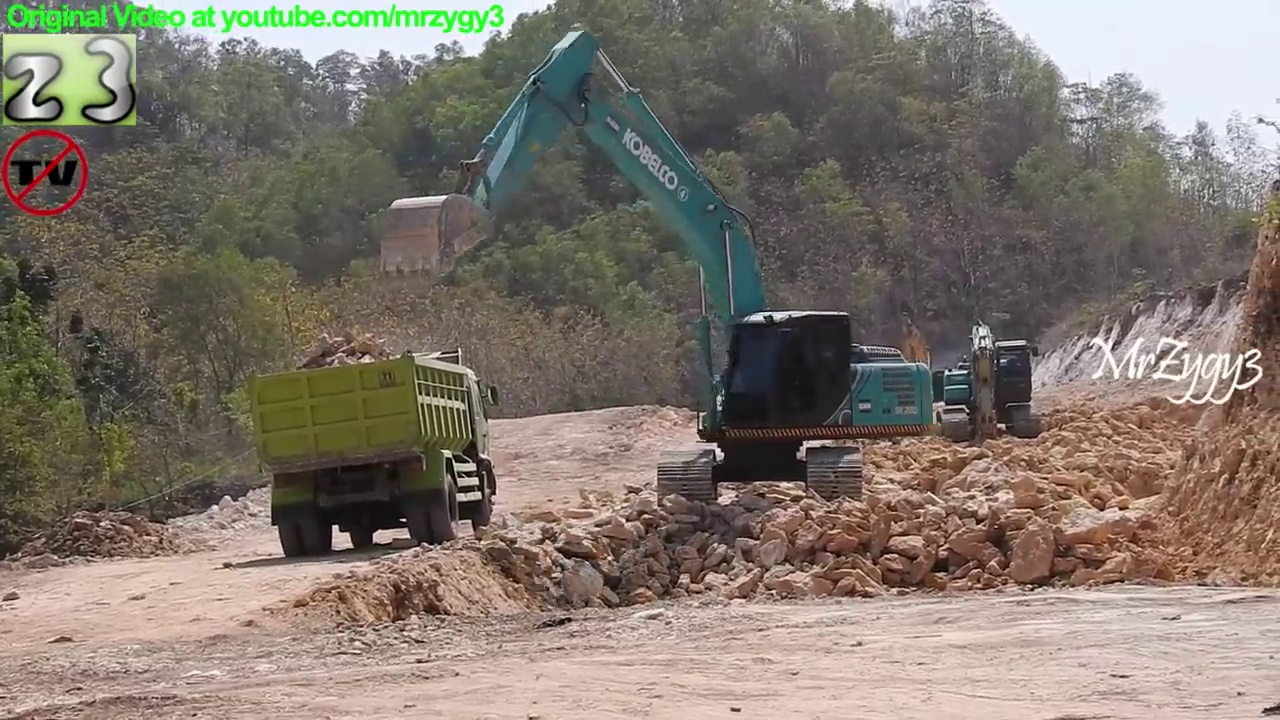excavator: (371, 16, 938, 514), (872, 300, 954, 440)
excavator breaker: (930, 313, 1047, 454)
truck: (244, 340, 507, 564)
